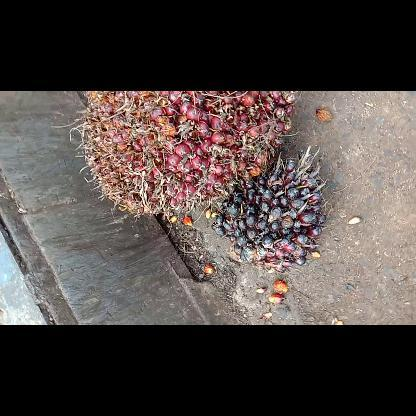TBS abnormal: (210, 155, 326, 268)
TBS masak: (78, 92, 296, 220)
